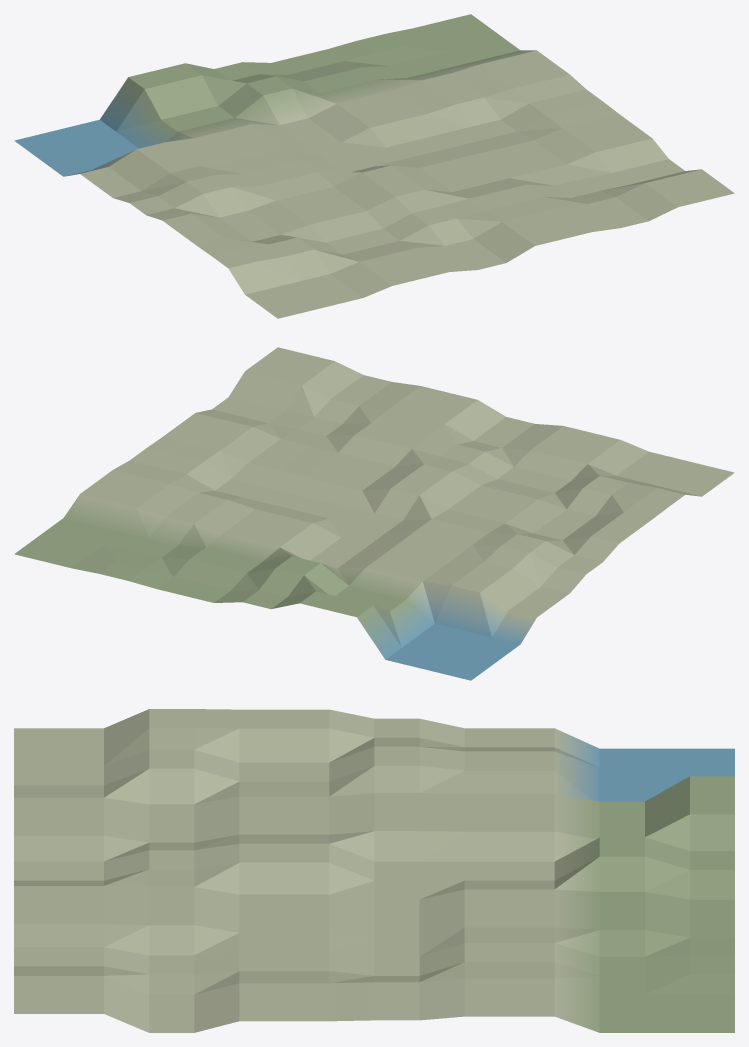
The picture shows the model from 3 angles, top to bottom: view 1: azimuth 30°, elevation 25°; view 2: azimuth 150°, elevation 25°; view 3: azimuth 270°, elevation 25°; orthographic projection. The views are drawn at different scales.
Size of the model in its own units: 32 by 2.38 by 32.
